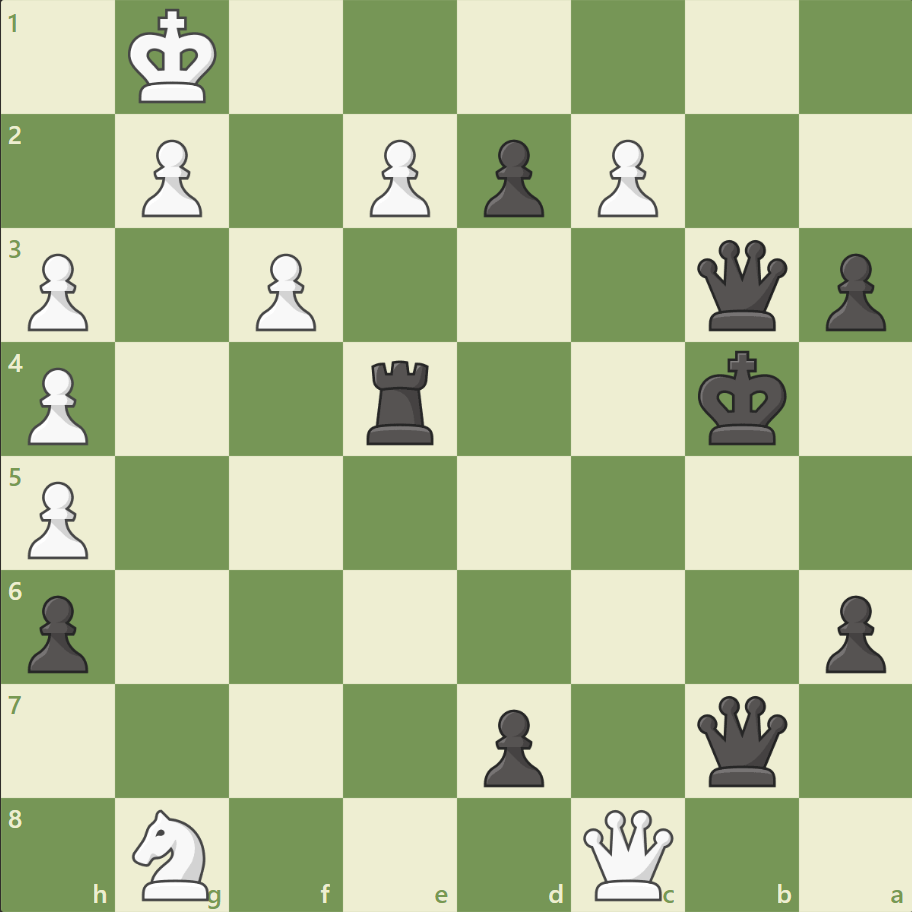K: (124, 4, 224, 112)
N: (124, 802, 222, 904)
P: (20, 473, 95, 564), (20, 359, 95, 450), (247, 246, 322, 337), (20, 246, 95, 337), (133, 132, 208, 223), (588, 132, 662, 223), (361, 132, 435, 223)
Q: (578, 804, 677, 903)
k: (692, 344, 792, 452)
p: (474, 700, 549, 791), (20, 586, 95, 677), (474, 132, 549, 223), (815, 586, 889, 677), (815, 246, 889, 337)
q: (691, 690, 790, 789), (691, 236, 790, 335)
r: (360, 352, 442, 449)
